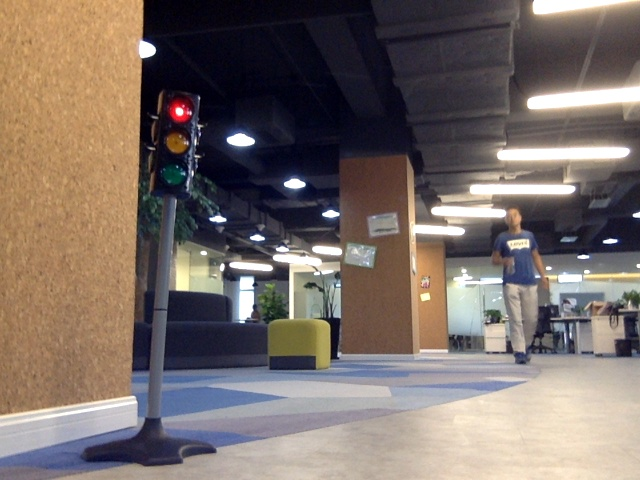red: (162, 98, 187, 187)
